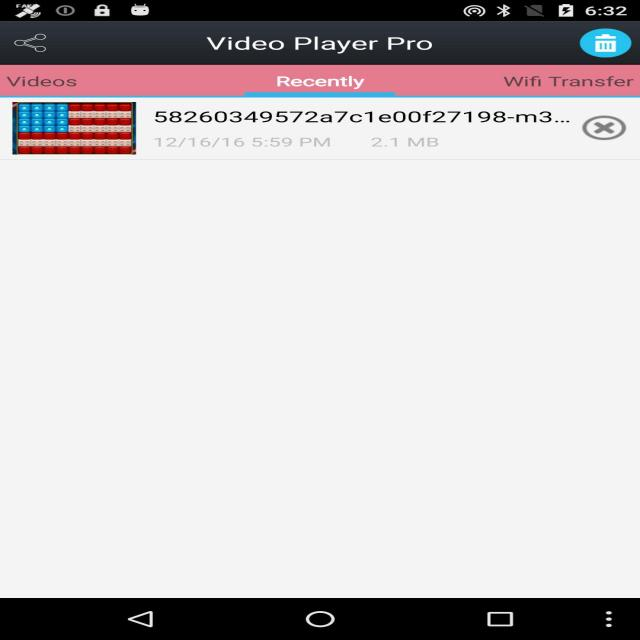button: (1, 96, 637, 159), (252, 66, 416, 102), (0, 66, 129, 96), (487, 68, 632, 93), (571, 27, 632, 61)
icon: (577, 112, 632, 140), (16, 33, 60, 55)
image: (7, 96, 138, 158), (586, 32, 629, 55)
text: (153, 107, 560, 126), (192, 32, 469, 58), (159, 134, 454, 156), (495, 73, 619, 91), (272, 71, 377, 92), (11, 71, 91, 93)
